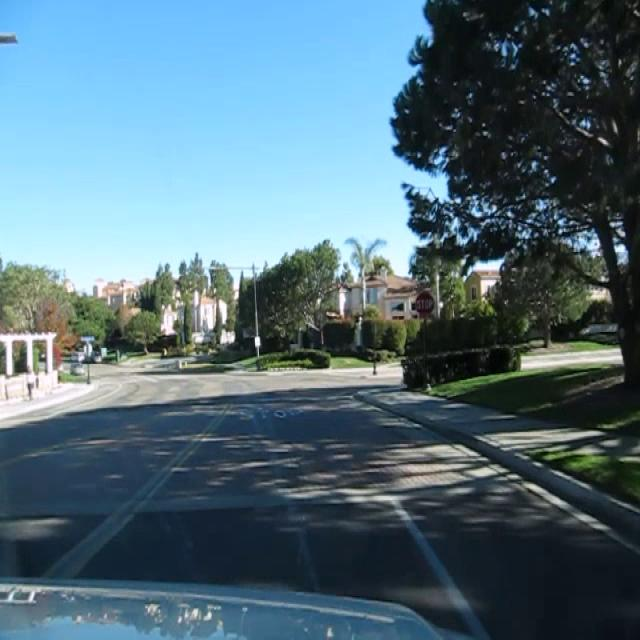stop: (414, 289, 435, 319)
